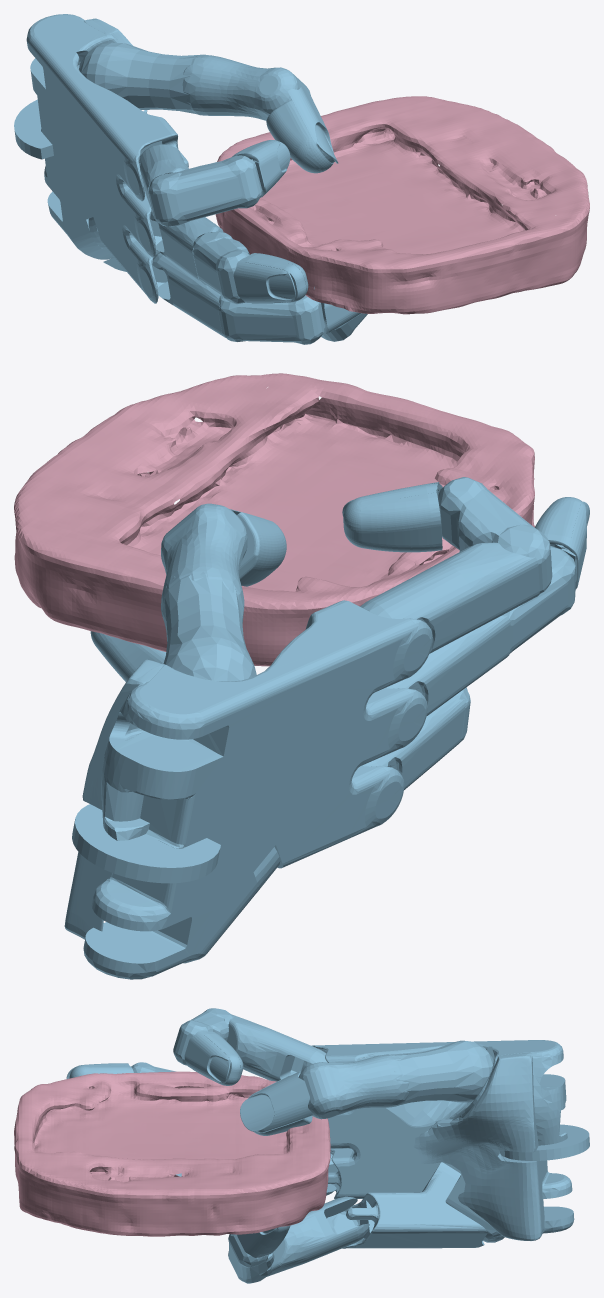
3 renders of one model, top to bottom at view 1: azimuth 30°, elevation 25°; view 2: azimuth 150°, elevation 25°; view 3: azimuth 270°, elevation 25°, orthographic. The views are drawn at different scales.
Visible parts, largest first — view 1: hand, world; view 2: hand, world; view 3: hand, world.
Boxes of the visible parts, box(x1,y1,x2,y2) form: hand: box(14, 14, 367, 344); world: box(215, 96, 589, 314); hand: box(64, 477, 589, 979); world: box(14, 373, 534, 666); hand: box(66, 1008, 589, 1283); world: box(14, 1071, 330, 1236).
Bounding box in the file's own units: 0.1556 × 0.0975 × 0.2391.
